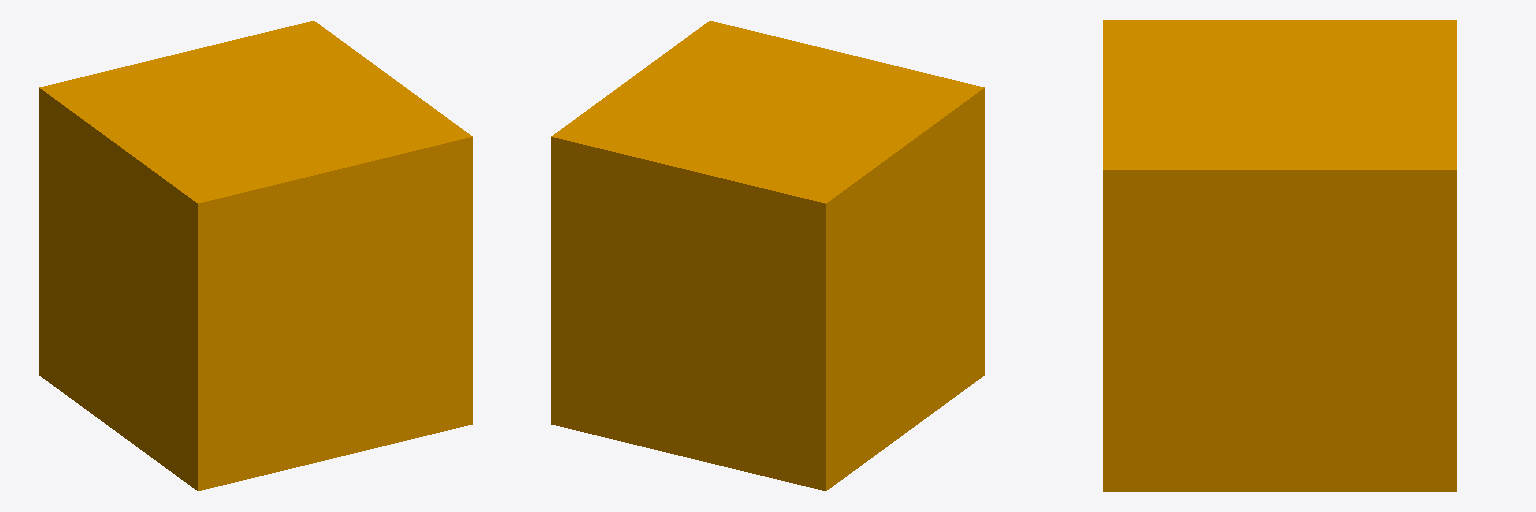
robot.urdf — youbot:
<?xml version="1.0" ?>
<robot name="youbot">
  <joint name="base_footprint_joint" type="fixed">
    <parent link="base_footprint"/>
    <child link="base_link"/>
    <origin rpy="0  0  0" xyz="0    0    0"/>
    <axis xyz="0  0  1"/>
    <limit effort="0.0" lower="0.0" upper="0.0" velocity="0.0"/>
  </joint>
  <joint name="arm_joint_0" type="fixed">
    <parent link="base_link"/>
    <child link="arm_link_0"/>
    <origin rpy="0  0  0" xyz="0.14299  0       0.046"/>
    <axis xyz="0  0  1"/>
    <limit effort="0.0" lower="0.0" upper="0.0" velocity="0.0"/>
  </joint>
  <joint name="arm_joint_1" type="revolute">
    <parent link="arm_link_0"/>
    <child link="arm_link_1"/>
    <origin rpy="0       0       0" xyz="0.024  0     0.096"/>
    <axis xyz="0  0 -1"/>
    <limit effort="9.5" lower="0.0" upper="5.899213" velocity="1.0"/>
  </joint>
  <joint name="arm_joint_2" type="revolute">
    <parent link="arm_link_1"/>
    <child link="arm_link_2"/>
    <origin rpy="0      -1.13446  0" xyz="0.033  0     0.019"/>
    <axis xyz="0  1  0"/>
    <limit effort="9.5" lower="0.0" upper="2.70526" velocity="1.0"/>
  </joint>
  <joint name="arm_joint_3" type="revolute">
    <parent link="arm_link_2"/>
    <child link="arm_link_3"/>
    <origin rpy="3.14159  0.59341 -3.14159" xyz="0     0     0.155"/>
    <axis xyz="0  1  0"/>
    <limit effort="6.0" lower="-5.183628" upper="0.0" velocity="1.0"/>
  </joint>
  <joint name="arm_joint_4" type="revolute">
    <parent link="arm_link_3"/>
    <child link="arm_link_4"/>
    <origin rpy="-3.14159 -1.35262  3.14159" xyz="0     0     0.135"/>
    <axis xyz="0  1  0"/>
    <limit effort="2.0" lower="0.0" upper="3.577925" velocity="1.0"/>
  </joint>
  <joint name="arm_joint_5" type="revolute">
    <parent link="arm_link_4"/>
    <child link="arm_link_5"/>
    <origin rpy="0       0       2.92342" xyz="-0.002  0     0.13"/>
    <axis xyz="0  0 -1"/>
    <limit effort="1.0" lower="0.0" upper="5.846853" velocity="1.0"/>
  </joint>
  <joint name="gripper_palm_joint" type="fixed">
    <parent link="arm_link_5"/>
    <child link="gripper_palm_link"/>
    <origin rpy="0  0  0" xyz="0  0  0"/>
    <axis xyz="-0.35781 -0.07932  0.93041"/>
    <limit effort="0.0" lower="0.0" upper="0.0" velocity="0.0"/>
  </joint>
  <joint name="gripper_finger_joint_l" type="prismatic">
    <parent link="gripper_palm_link"/>
    <child link="gripper_finger_link_l"/>
    <origin rpy="0       0      -3.14159" xyz="0.00399  0.008    0.04599"/>
    <axis xyz="0 -1  0"/>
    <limit effort="1.0" lower="0.0" upper="0.0115" velocity="-1.0"/>
  </joint>
  <joint name="gripper_finger_joint_r" type="prismatic">
    <parent link="gripper_palm_link"/>
    <child link="gripper_finger_link_r"/>
    <origin rpy="0  0  0" xyz="0.004   -0.008    0.04599"/>
    <axis xyz="0 -1  0"/>
    <limit effort="1.0" lower="0.0" upper="0.0115" velocity="-1.0"/>
  </joint>
  <joint name="base_laser_front_hokuyo_urg04_laser_joint" type="fixed">
    <parent link="base_link"/>
    <child link="base_laser_front_link"/>
    <origin rpy="0  0  0" xyz="0.3   0   -0.03"/>
    <axis xyz="0  0  1"/>
    <limit effort="0.0" lower="0.0" upper="0.0" velocity="0.0"/>
  </joint>
  <joint name="caster_joint_bl" type="continuous">
    <parent link="base_link"/>
    <child link="caster_link_bl"/>
    <origin rpy="0  0  0" xyz="-0.228  0.158 -0.034"/>
    <axis xyz="0  0  1"/>
    <limit effort="1.0" lower="0.0" upper="0.0" velocity="0.0"/>
  </joint>
  <joint name="wheel_joint_bl" type="continuous">
    <parent link="caster_link_bl"/>
    <child link="wheel_link_bl"/>
    <origin rpy="0  0  0" xyz="0  0  0"/>
    <axis xyz="0  1  0"/>
    <limit effort="1.0" lower="0.0" upper="0.0" velocity="0.0"/>
  </joint>
  <joint name="caster_joint_br" type="continuous">
    <parent link="base_link"/>
    <child link="caster_link_br"/>
    <origin rpy="0  0  0" xyz="-0.228 -0.158 -0.034"/>
    <axis xyz="0  0  1"/>
    <limit effort="1.0" lower="0.0" upper="0.0" velocity="0.0"/>
  </joint>
  <joint name="wheel_joint_br" type="continuous">
    <parent link="caster_link_br"/>
    <child link="wheel_link_br"/>
    <origin rpy="0  0  0" xyz="0  0  0"/>
    <axis xyz="0  1  0"/>
    <limit effort="1.0" lower="0.0" upper="0.0" velocity="0.0"/>
  </joint>
  <joint name="caster_joint_fl" type="continuous">
    <parent link="base_link"/>
    <child link="caster_link_fl"/>
    <origin rpy="0  0  0" xyz="0.228  0.158 -0.034"/>
    <axis xyz="0  0  1"/>
    <limit effort="1.0" lower="0.0" upper="0.0" velocity="0.0"/>
  </joint>
  <joint name="wheel_joint_fl" type="continuous">
    <parent link="caster_link_fl"/>
    <child link="wheel_link_fl"/>
    <origin rpy="0  0  0" xyz="0  0  0"/>
    <axis xyz="0  1  0"/>
    <limit effort="1.0" lower="0.0" upper="0.0" velocity="0.0"/>
  </joint>
  <joint name="caster_joint_fr" type="continuous">
    <parent link="base_link"/>
    <child link="caster_link_fr"/>
    <origin rpy="0  0  0" xyz="0.228 -0.158 -0.034"/>
    <axis xyz="0  0  1"/>
    <limit effort="1.0" lower="0.0" upper="0.0" velocity="0.0"/>
  </joint>
  <joint name="wheel_joint_fr" type="continuous">
    <parent link="caster_link_fr"/>
    <child link="wheel_link_fr"/>
    <origin rpy="0  0  0" xyz="0  0  0"/>
    <axis xyz="0  1  0"/>
    <limit effort="1.0" lower="0.0" upper="0.0" velocity="0.0"/>
  </joint>
  <joint name="plate_joint" type="fixed">
    <parent link="base_link"/>
    <child link="plate_link"/>
    <origin rpy="0  0  0" xyz="-0.159  0     0.046"/>
    <axis xyz="0  0  1"/>
    <limit effort="0.0" lower="0.0" upper="0.0" velocity="0.0"/>
  </joint>
  <link name="base_footprint">
    <inertial>
      <mass value="0.100000"/>
      <origin rpy="0  0  0" xyz="0    0   -0.05"/>
      <inertia ixx="1" ixy="0" ixz="0" iyy="1" iyz="0" izz="1"/>
    </inertial>
    <collision name="base_footprint_geom">
      <origin rpy="0  0  0" xyz="0    0    0.04"/>
      <geometry>
        <box size="0.001000 0.001000 0.001000"/>
      </geometry>
    </collision>
    <visual name="base_footprint_geom_visual">
      <origin rpy="0  0  0" xyz="0    0    0.09"/>
      <geometry>
        <box size="0.001000 0.001000 0.001000"/>
      </geometry>
    </visual>
  </link>
  <link name="base_link">
    <inertial>
      <mass value="22.000000"/>
      <origin rpy="0  0  0" xyz="0  0  0"/>
      <inertia ixx="5.652230" ixy="-0.009720" ixz="1.293990" iyy="5.669470" iyz="-0.007380" izz="3.683200"/>
    </inertial>
    <collision name="base_link_geom">
      <origin rpy="0  0  0" xyz="0  0  0"/>
      <geometry>
        <mesh filename="package://bricklayer_gazebo/models/youbot/meshes/base/base_convex.stl" scale="1.0 1.0 1.0"/>
      </geometry>
    </collision>
    <visual name="base_link_geom_visual">
      <origin rpy="0  0  0" xyz="0  0  0"/>
      <geometry>
        <mesh filename="package://bricklayer_gazebo/models/youbot/meshes/base/base.dae" scale="1.0 1.0 1.0"/>
      </geometry>
    </visual>
  </link>
  <link name="arm_link_0">
    <inertial>
      <mass value="0.845000"/>
      <origin rpy="0  0  0" xyz="0  0  0"/>
      <inertia ixx="0.010000" ixy="0" ixz="0" iyy="0.010000" iyz="0" izz="0.010000"/>
    </inertial>
    <collision name="arm_link_0_geom">
      <origin rpy="0  0  0" xyz="0  0  0"/>
      <geometry>
        <mesh filename="package://bricklayer_gazebo/models/youbot/meshes/arm/arm0_convex.stl" scale="1.0 1.0 1.0"/>
      </geometry>
    </collision>
    <visual name="arm_link_0_geom_visual">
      <origin rpy="0  0  0" xyz="0  0  0"/>
      <geometry>
        <mesh filename="package://bricklayer_gazebo/models/youbot/meshes/arm/arm0.dae" scale="1.0 1.0 1.0"/>
      </geometry>
    </visual>
  </link>
  <link name="arm_link_1">
    <inertial>
      <mass value="2.412000"/>
      <origin rpy="0  0  0" xyz="0.01489  0.00213  0.00213"/>
      <inertia ixx="0.003863" ixy="-0.000979" ixz="0" iyy="0.006196" iyz="0" izz="0.006369"/>
    </inertial>
    <collision name="arm_link_1_geom">
      <origin rpy="0  0  0" xyz="0  0  0"/>
      <geometry>
        <mesh filename="package://bricklayer_gazebo/models/youbot/meshes/arm/arm1_convex.stl" scale="1.0 1.0 1.0"/>
      </geometry>
    </collision>
    <visual name="arm_link_1_geom_visual">
      <origin rpy="0  0  0" xyz="0  0  0"/>
      <geometry>
        <mesh filename="package://bricklayer_gazebo/models/youbot/meshes/arm/arm1.dae" scale="1.0 1.0 1.0"/>
      </geometry>
    </visual>
  </link>
  <link name="arm_link_2">
    <inertial>
      <mass value="1.155000"/>
      <origin rpy="0  0  0" xyz="0.10453  0.0017  -0.00297"/>
      <inertia ixx="0.000823" ixy="0" ixz="-0.000000" iyy="0.004447" iyz="0" izz="0.004439"/>
    </inertial>
    <collision name="arm_link_2_geom">
      <origin rpy="0  0  0" xyz="0    -0.032  0.078"/>
      <geometry>
        <mesh filename="package://bricklayer_gazebo/models/youbot/meshes/arm/arm2_convex.stl" scale="1.0 1.0 1.0"/>
      </geometry>
    </collision>
    <visual name="arm_link_2_geom_visual">
      <origin rpy="0  0  0" xyz="0    -0.032  0.078"/>
      <geometry>
        <mesh filename="package://bricklayer_gazebo/models/youbot/meshes/arm/arm2.dae" scale="1.0 1.0 1.0"/>
      </geometry>
    </visual>
  </link>
  <link name="arm_link_3">
    <inertial>
      <mass value="0.934000"/>
      <origin rpy="0  0  0" xyz="0.0001   0.0967   0.02107"/>
      <inertia ixx="0.002459" ixy="0" ixz="0" iyy="0.002571" iyz="-0.000000" izz="0.000535"/>
    </inertial>
    <collision name="arm_link_3_geom">
      <origin rpy="0  0  0" xyz="0     0.028  0.079"/>
      <geometry>
        <mesh filename="package://bricklayer_gazebo/models/youbot/meshes/arm/arm3_convex.stl" scale="1.0 1.0 1.0"/>
      </geometry>
    </collision>
    <visual name="arm_link_3_geom_visual">
      <origin rpy="0  0  0" xyz="0     0.028  0.079"/>
      <geometry>
        <mesh filename="package://bricklayer_gazebo/models/youbot/meshes/arm/arm3.dae" scale="1.0 1.0 1.0"/>
      </geometry>
    </visual>
  </link>
  <link name="arm_link_4">
    <inertial>
      <mass value="0.877000"/>
      <origin rpy="0  0  0" xyz="0.00011  0.05103 -0.02319"/>
      <inertia ixx="0.000869" ixy="0" ixz="-0.000000" iyy="0.001173" iyz="-0.000231" izz="0.001091"/>
    </inertial>
    <collision name="arm_link_4_geom">
      <origin rpy="0  0  0" xyz="0    -0.01   0.029"/>
      <geometry>
        <mesh filename="package://bricklayer_gazebo/models/youbot/meshes/arm/arm4_convex.stl" scale="1.0 1.0 1.0"/>
      </geometry>
    </collision>
    <visual name="arm_link_4_geom_visual">
      <origin rpy="0  0  0" xyz="0    -0.01   0.029"/>
      <geometry>
        <mesh filename="package://bricklayer_gazebo/models/youbot/meshes/arm/arm4.dae" scale="1.0 1.0 1.0"/>
      </geometry>
    </visual>
  </link>
  <link name="arm_link_5">
    <inertial>
      <mass value="0.251000"/>
      <origin rpy="0  0  0" xyz="0       0.00115 -0.01683"/>
      <inertia ixx="0.000280" ixy="0" ixz="0" iyy="0.000339" iyz="0" izz="0.000119"/>
    </inertial>
    <collision name="arm_link_5_geom">
      <origin rpy="0  0  0" xyz="0.003  0    -0.034"/>
      <geometry>
        <mesh filename="package://bricklayer_gazebo/models/youbot/meshes/arm/arm5_convex.stl" scale="1.0 1.0 1.0"/>
      </geometry>
    </collision>
    <visual name="arm_link_5_geom_visual">
      <origin rpy="0  0  0" xyz="0.003  0    -0.034"/>
      <geometry>
        <mesh filename="package://bricklayer_gazebo/models/youbot/meshes/arm/arm5.dae" scale="1.0 1.0 1.0"/>
      </geometry>
    </visual>
  </link>
  <link name="gripper_palm_link">
    <inertial>
      <mass value="0.100000"/>
      <origin rpy="0  0  0" xyz="0  0  0"/>
      <inertia ixx="0.010000" ixy="0" ixz="0" iyy="0.010000" iyz="0" izz="0.010000"/>
    </inertial>
    <collision name="gripper_palm_link_geom">
      <origin rpy="0  0  0" xyz="0  0  0"/>
      <geometry>
        <mesh filename="package://bricklayer_gazebo/models/youbot/meshes/gripper/palm_convex.stl" scale="1.0 1.0 1.0"/>
      </geometry>
    </collision>
    <visual name="gripper_palm_link_geom_visual">
      <origin rpy="0  0  0" xyz="0  0  0"/>
      <geometry>
        <mesh filename="package://bricklayer_gazebo/models/youbot/meshes/gripper/palm.stl" scale="1.0 1.0 1.0"/>
      </geometry>
    </visual>
  </link>
  <link name="gripper_finger_link_l">
    <inertial>
      <mass value="0.010000"/>
      <origin rpy="0  0  0" xyz="0    -0.001  0"/>
      <inertia ixx="0.010000" ixy="0" ixz="0" iyy="0.010000" iyz="0" izz="0.010000"/>
    </inertial>
    <collision name="gripper_finger_link_l_geom">
      <origin rpy="0  0  0" xyz="0  0  0"/>
      <geometry>
        <mesh filename="package://bricklayer_gazebo/models/youbot/meshes/gripper/finger_convex.stl" scale="1.0 1.0 1.0"/>
      </geometry>
    </collision>
    <visual name="gripper_finger_link_l_geom_visual">
      <origin rpy="0  0  0" xyz="0  0  0"/>
      <geometry>
        <mesh filename="package://bricklayer_gazebo/models/youbot/meshes/gripper/finger.stl" scale="1.0 1.0 1.0"/>
      </geometry>
    </visual>
  </link>
  <link name="gripper_finger_link_r">
    <inertial>
      <mass value="0.010000"/>
      <origin rpy="0  0  0" xyz="0    -0.001  0"/>
      <inertia ixx="0.010000" ixy="0" ixz="0" iyy="0.010000" iyz="0" izz="0.010000"/>
    </inertial>
    <collision name="gripper_finger_link_r_geom">
      <origin rpy="0  0  0" xyz="0  0  0"/>
      <geometry>
        <mesh filename="package://bricklayer_gazebo/models/youbot/meshes/gripper/finger_convex.stl" scale="1.0 1.0 1.0"/>
      </geometry>
    </collision>
    <visual name="gripper_finger_link_r_geom_visual">
      <origin rpy="0  0  0" xyz="0  0  0"/>
      <geometry>
        <mesh filename="package://bricklayer_gazebo/models/youbot/meshes/gripper/finger.stl" scale="1.0 1.0 1.0"/>
      </geometry>
    </visual>
  </link>
  <link name="base_laser_front_link">
    <inertial>
      <mass value="0.160000"/>
      <origin rpy="0  0  0" xyz="0  0  0"/>
      <inertia ixx="0.100000" ixy="0" ixz="0" iyy="0.100000" iyz="0" izz="0.100000"/>
    </inertial>
    <collision name="base_laser_front_link_geom">
      <origin rpy="0  0  0" xyz="0  0  0"/>
      <geometry>
        <mesh filename="package://bricklayer_gazebo/models/youbot/meshes/laser/hokuyo_convex.stl" scale="1.0 1.0 1.0"/>
      </geometry>
    </collision>
    <visual name="base_laser_front_link_geom_visual">
      <origin rpy="0  0  0" xyz="0  0  0"/>
      <geometry>
        <mesh filename="package://bricklayer_gazebo/models/youbot/meshes/laser/hokuyo.dae" scale="1.0 1.0 1.0"/>
      </geometry>
    </visual>
  </link>
  <link name="caster_link_bl">
    <inertial>
      <mass value="0.100000"/>
      <origin rpy="0  0  0" xyz="0  0  0"/>
      <inertia ixx="0.012412" ixy="-0.000712" ixz="0.000503" iyy="0.015218" iyz="-0.000004" izz="0.011764"/>
    </inertial>
  </link>
  <link name="wheel_link_bl">
    <inertial>
      <mass value="0.400000"/>
      <origin rpy="0  0  0" xyz="0  0  0"/>
      <inertia ixx="0.012412" ixy="-0.000712" ixz="0.000503" iyy="0.015218" iyz="-0.000004" izz="0.011764"/>
    </inertial>
    <collision name="wheel_link_bl_geom">
      <origin rpy="1.5708  0      0" xyz="0  0  0"/>
      <geometry>
        <cylinder length="0.005000" radius="0.050000"/>
      </geometry>
    </collision>
    <visual name="wheel_link_bl_geom_visual">
      <origin rpy="0  0  0" xyz="0  0  0"/>
      <geometry>
        <mesh filename="package://bricklayer_gazebo/models/youbot/meshes/base/back-left_wheel.dae" scale="1.0 1.0 1.0"/>
      </geometry>
    </visual>
  </link>
  <link name="caster_link_br">
    <inertial>
      <mass value="0.100000"/>
      <origin rpy="0  0  0" xyz="0  0  0"/>
      <inertia ixx="0.012412" ixy="-0.000712" ixz="0.000503" iyy="0.015218" iyz="-0.000004" izz="0.011764"/>
    </inertial>
  </link>
  <link name="wheel_link_br">
    <inertial>
      <mass value="0.400000"/>
      <origin rpy="0  0  0" xyz="0  0  0"/>
      <inertia ixx="0.012412" ixy="-0.000712" ixz="0.000503" iyy="0.015218" iyz="-0.000004" izz="0.011764"/>
    </inertial>
    <collision name="wheel_link_br_geom">
      <origin rpy="1.5708  0      0" xyz="0  0  0"/>
      <geometry>
        <cylinder length="0.005000" radius="0.050000"/>
      </geometry>
    </collision>
    <visual name="wheel_link_br_geom_visual">
      <origin rpy="0  0  0" xyz="0  0  0"/>
      <geometry>
        <mesh filename="package://bricklayer_gazebo/models/youbot/meshes/base/back-right_wheel.dae" scale="1.0 1.0 1.0"/>
      </geometry>
    </visual>
  </link>
  <link name="caster_link_fl">
    <inertial>
      <mass value="0.100000"/>
      <origin rpy="0  0  0" xyz="0  0  0"/>
      <inertia ixx="0.012412" ixy="-0.000712" ixz="0.000503" iyy="0.015218" iyz="-0.000004" izz="0.011764"/>
    </inertial>
  </link>
  <link name="wheel_link_fl">
    <inertial>
      <mass value="0.400000"/>
      <origin rpy="0  0  0" xyz="0  0  0"/>
      <inertia ixx="0.012412" ixy="-0.000712" ixz="0.000503" iyy="0.015218" iyz="-0.000004" izz="0.011764"/>
    </inertial>
    <collision name="wheel_link_fl_geom">
      <origin rpy="1.5708  0      0" xyz="0  0  0"/>
      <geometry>
        <cylinder length="0.005000" radius="0.050000"/>
      </geometry>
    </collision>
    <visual name="wheel_link_fl_geom_visual">
      <origin rpy="0  0  0" xyz="0  0  0"/>
      <geometry>
        <mesh filename="package://bricklayer_gazebo/models/youbot/meshes/base/front-left_wheel.dae" scale="1.0 1.0 1.0"/>
      </geometry>
    </visual>
  </link>
  <link name="caster_link_fr">
    <inertial>
      <mass value="0.100000"/>
      <origin rpy="0  0  0" xyz="0  0  0"/>
      <inertia ixx="0.012412" ixy="-0.000712" ixz="0.000503" iyy="0.015218" iyz="-0.000004" izz="0.011764"/>
    </inertial>
  </link>
  <link name="wheel_link_fr">
    <inertial>
      <mass value="0.400000"/>
      <origin rpy="0  0  0" xyz="0  0  0"/>
      <inertia ixx="0.012412" ixy="-0.000712" ixz="0.000503" iyy="0.015218" iyz="-0.000004" izz="0.011764"/>
    </inertial>
    <collision name="wheel_link_fr_geom">
      <origin rpy="1.5708  0      0" xyz="0  0  0"/>
      <geometry>
        <cylinder length="0.005000" radius="0.050000"/>
      </geometry>
    </collision>
    <visual name="wheel_link_fr_geom_visual">
      <origin rpy="0  0  0" xyz="0  0  0"/>
      <geometry>
        <mesh filename="package://bricklayer_gazebo/models/youbot/meshes/base/front-right_wheel.dae" scale="1.0 1.0 1.0"/>
      </geometry>
    </visual>
  </link>
  <link name="plate_link">
    <inertial>
      <mass value="1"/>
      <origin rpy="0  0  0" xyz="0  0  0"/>
      <inertia ixx="0.010000" ixy="0" ixz="0" iyy="0.010000" iyz="0" izz="0.010000"/>
    </inertial>
    <collision name="plate_link_geom">
      <origin rpy="0  0  0" xyz="0  0  0"/>
      <geometry>
        <mesh filename="package://bricklayer_gazebo/models/youbot/meshes/plate/plate_convex.stl" scale="1.0 1.0 1.0"/>
      </geometry>
    </collision>
    <visual name="plate_link_geom_visual">
      <origin rpy="0  0  0" xyz="0  0  0"/>
      <geometry>
        <mesh filename="package://bricklayer_gazebo/models/youbot/meshes/plate/plate.dae" scale="1.0 1.0 1.0"/>
      </geometry>
    </visual>
  </link>

  <transmission name="arm_joint_1_trans">
    <type>transmission_interface/SimpleTransmission</type>
    <actuator name="arm_joint_1_act">
      <hardwareInterface>hardware_interface/PositionJointInterface</hardwareInterface>
      <mechanicalReduction>1</mechanicalReduction>
    </actuator>
    <joint name="arm_joint_1">
      <hardwareInterface>hardware_interface/PositionJointInterface</hardwareInterface>
    </joint>
  </transmission>
  <transmission name="arm_joint_2_trans">
    <type>transmission_interface/SimpleTransmission</type>
    <actuator name="arm_joint_2_act">
      <hardwareInterface>hardware_interface/PositionJointInterface</hardwareInterface>
      <mechanicalReduction>1</mechanicalReduction>
    </actuator>
    <joint name="arm_joint_2">
      <hardwareInterface>hardware_interface/PositionJointInterface</hardwareInterface>
    </joint>
  </transmission>
  <transmission name="arm_joint_3_trans">
    <type>transmission_interface/SimpleTransmission</type>
    <actuator name="arm_joint_3_act">
      <hardwareInterface>hardware_interface/PositionJointInterface</hardwareInterface>
      <mechanicalReduction>1</mechanicalReduction>
    </actuator>
    <joint name="arm_joint_3">
      <hardwareInterface>hardware_interface/PositionJointInterface</hardwareInterface>
    </joint>
  </transmission>
  <transmission name="arm_joint_4_trans">
    <type>transmission_interface/SimpleTransmission</type>
    <actuator name="arm_joint_4_act">
      <hardwareInterface>hardware_interface/PositionJointInterface</hardwareInterface>
      <mechanicalReduction>1</mechanicalReduction>
    </actuator>
    <joint name="arm_joint_4">
      <hardwareInterface>hardware_interface/PositionJointInterface</hardwareInterface>
    </joint>
  </transmission>
  <transmission name="arm_joint_5_trans">
    <type>transmission_interface/SimpleTransmission</type>
    <actuator name="arm_joint_5_act">
      <hardwareInterface>hardware_interface/PositionJointInterface</hardwareInterface>
      <mechanicalReduction>1</mechanicalReduction>
    </actuator>
    <joint name="arm_joint_5">
      <hardwareInterface>hardware_interface/PositionJointInterface</hardwareInterface>
    </joint>
  </transmission>

  <gazebo>
    <plugin name="gazebo_ros_control" filename="libgazebo_ros_control.so">
      <robotNamespace>/bricklayer</robotNamespace>
    </plugin>
  </gazebo>
</robot>

--- Render facts (derived) ---
3 views of the same robot in one strip: view 1: azimuth 30°, elevation 25°; view 2: azimuth 150°, elevation 25°; view 3: azimuth 270°, elevation 25° (orthographic).
Robot: youbot — 21 links, 20 joints (5 revolute, 8 continuous, 2 prismatic, 5 fixed); root link base_footprint; default pose: every joint at zero.
Links seen in each view (by area): view 1: base_footprint; view 2: base_footprint; view 3: base_footprint.
Boxes of the visible links, left/top/right/bottom form: base_footprint: left=39, top=21, right=472, bottom=490; base_footprint: left=551, top=21, right=984, bottom=490; base_footprint: left=1103, top=20, right=1456, bottom=491.
Bounding box of the posed robot: 0.001 × 0.001 × 0.001 m (x, y, z).
0 mesh visuals loaded from 15 distinct referenced files (none loaded); not drawn: 16 (reference not matched to a file when rendering).